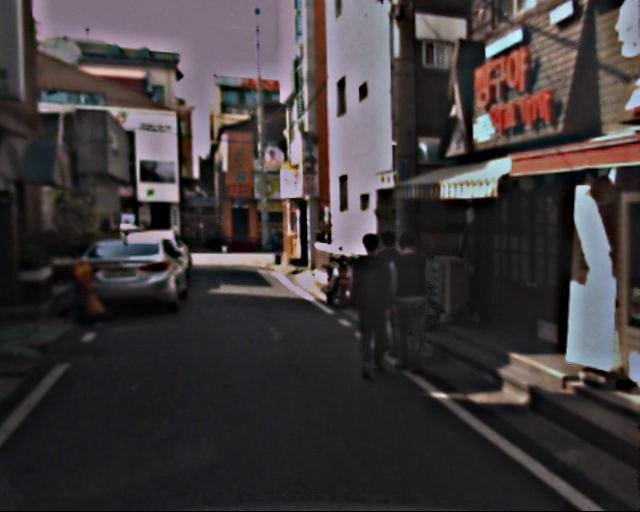person: (341, 232, 402, 381), (382, 235, 439, 373), (362, 232, 416, 363)
